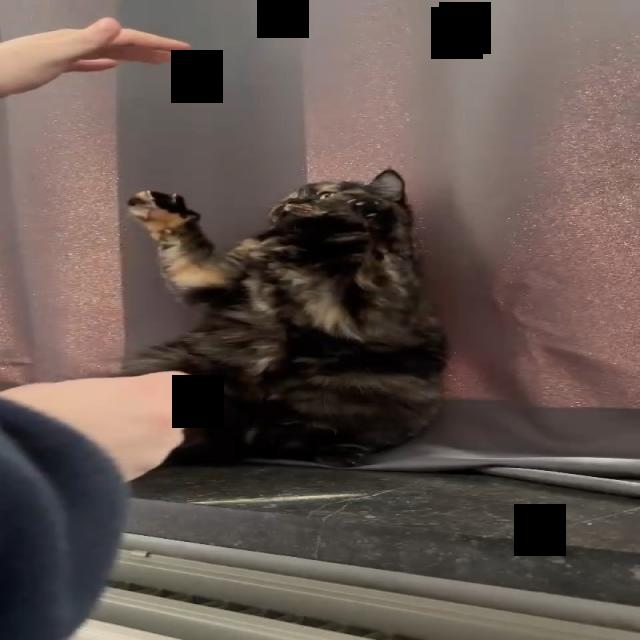authorized: (114, 167, 450, 468)
